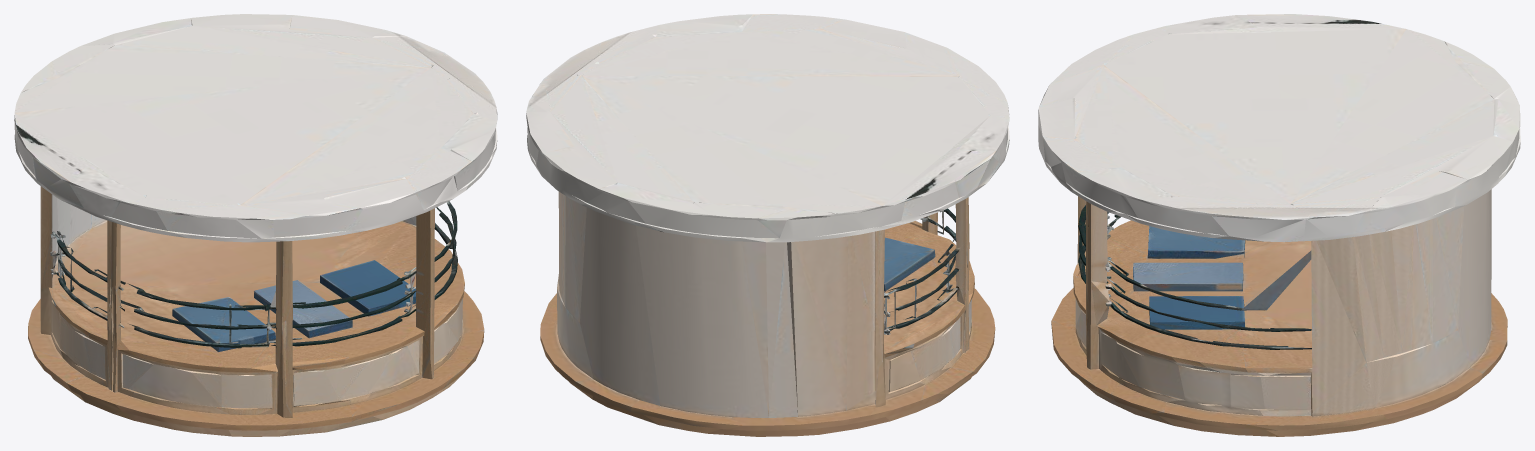
The model's file is mall_kiosk.glb.
3 views of the same model, side by side, from view 1: azimuth 30°, elevation 25°; view 2: azimuth 150°, elevation 25°; view 3: azimuth 270°, elevation 25° (orthographic).
Visible parts, largest first — view 1: mall_kiosk; view 2: mall_kiosk; view 3: mall_kiosk.
Part boxes in pixels (bbox=[...]): mall_kiosk: bbox=[14, 14, 497, 436]; mall_kiosk: bbox=[526, 14, 1009, 436]; mall_kiosk: bbox=[1038, 14, 1520, 436].
Size of the model in its own units: 3 by 1.58 by 3.
Materials: 1 (1 with a texture image).
